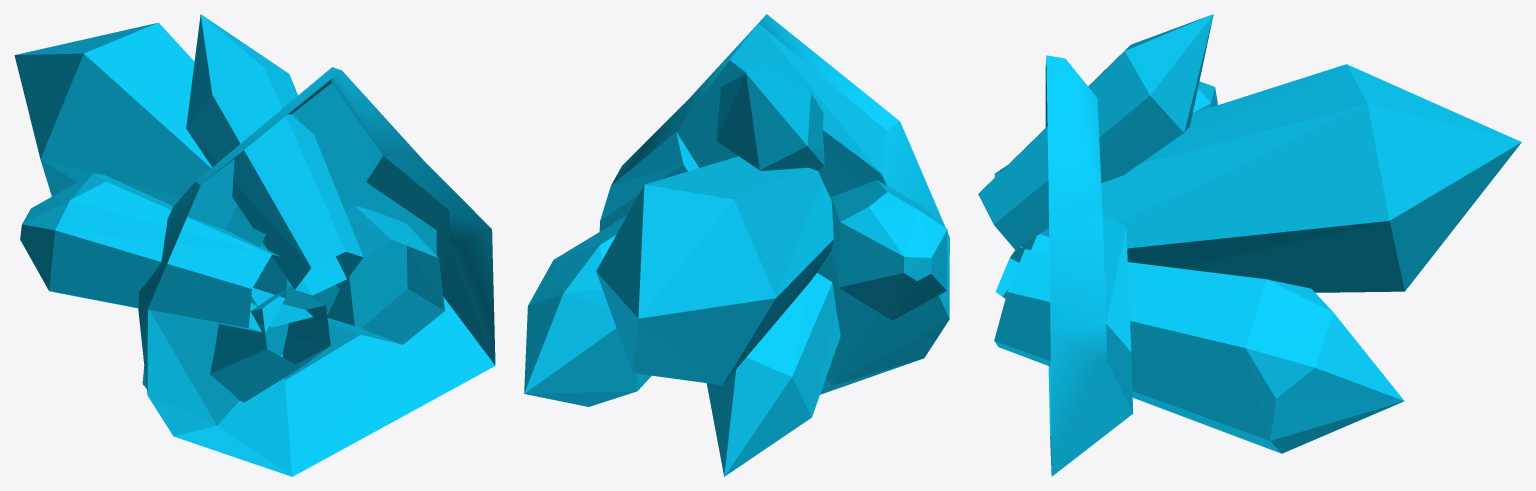
Rendered from Crystal 01.FBX.
3 views of the same model, side by side, from view 1: azimuth 30°, elevation 25°; view 2: azimuth 150°, elevation 25°; view 3: azimuth 270°, elevation 25° (orthographic). The views are drawn at different scales.
Visible parts, largest first — view 1: Crystal 01; view 2: Crystal 01; view 3: Crystal 01.
Boxes of the visible parts, x1,y1,x2,y2 form: Crystal 01: (14,14,495,476); Crystal 01: (524,14,949,476); Crystal 01: (978,14,1521,476).
Bounding box in the file's own units: 93.11 × 89.61 × 106.
